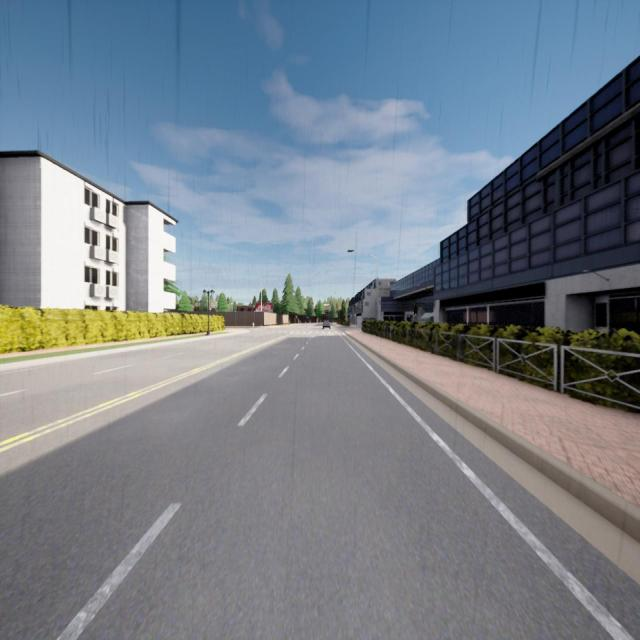Vehicle: (322, 320, 330, 330)
